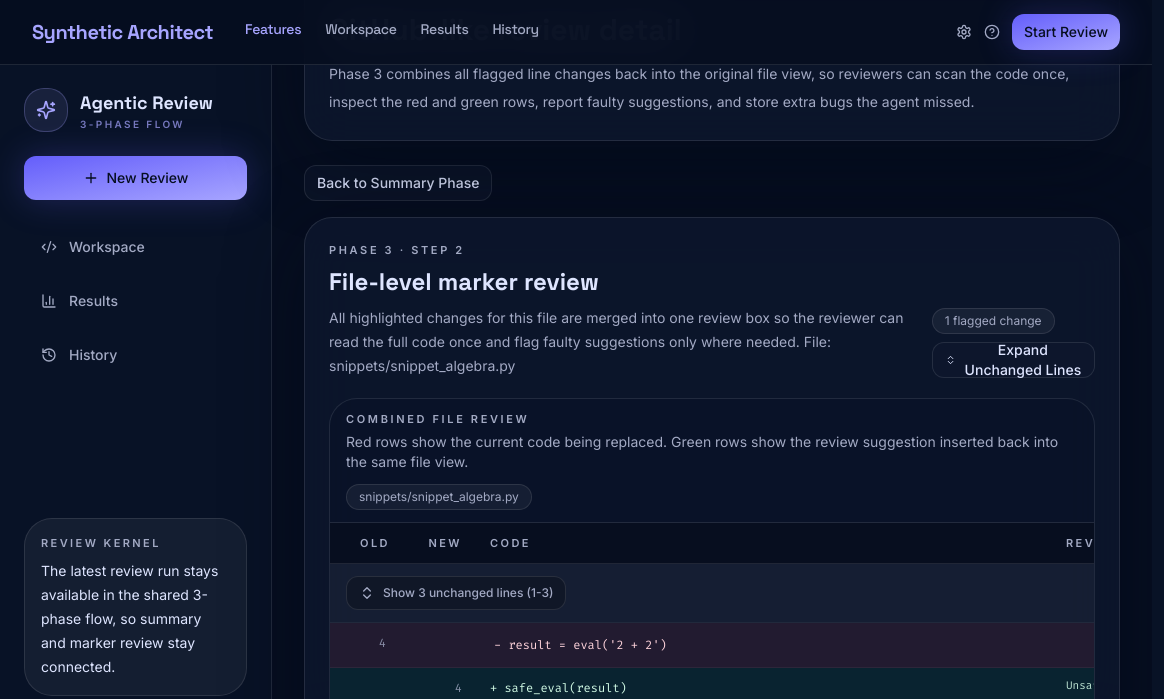
Scenario: ReviewFlowPage › stores extra reviewer-only bugs added in phase 3
(page scrolled)
Click the button "Expand Unchanged Lines" at coordinates (1013, 360), box [932,342,1095,378]
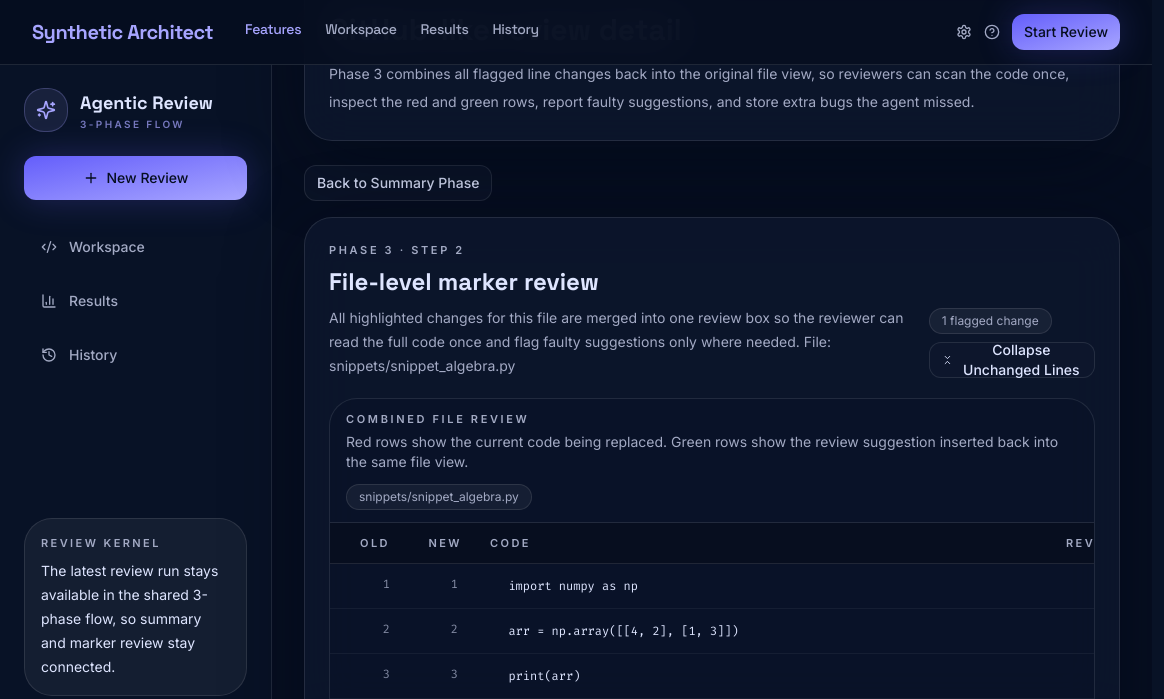
Click the button with aria-label "Anchor phase 3 line 3 from code" at coordinates (544, 676), box [490,662,1034,690]
(page scrolled)
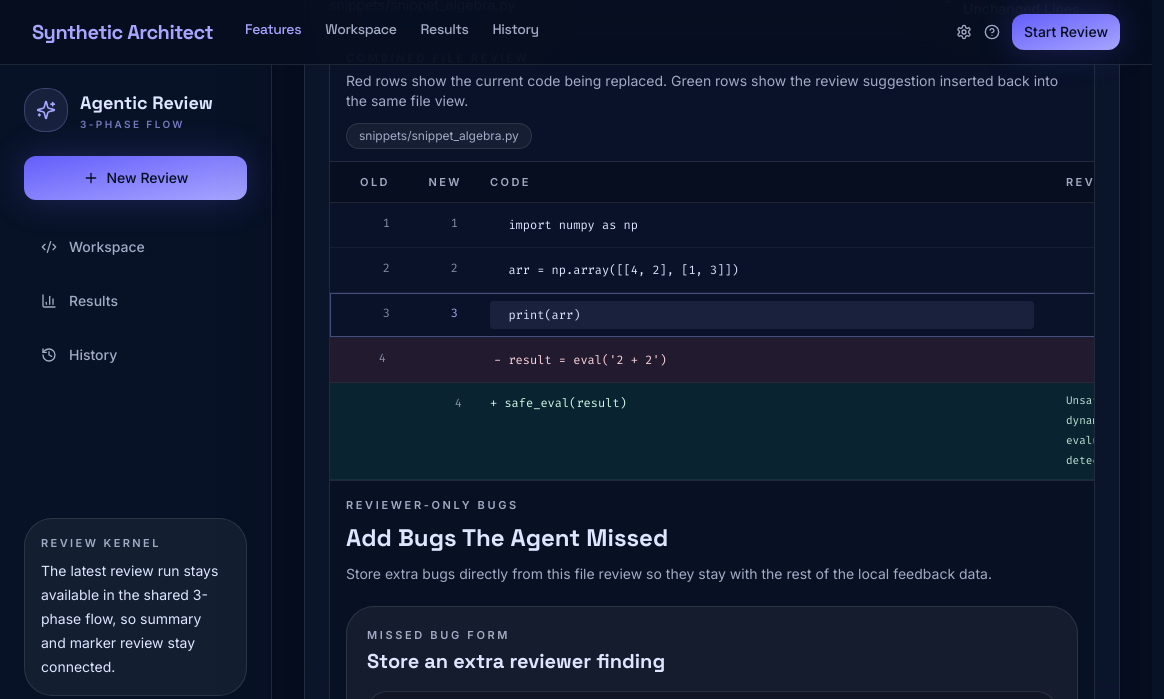
Hover over the button with aria-label "Anchor phase 3 line 4 from code" at coordinates (588, 360), box [490,346,1034,374]
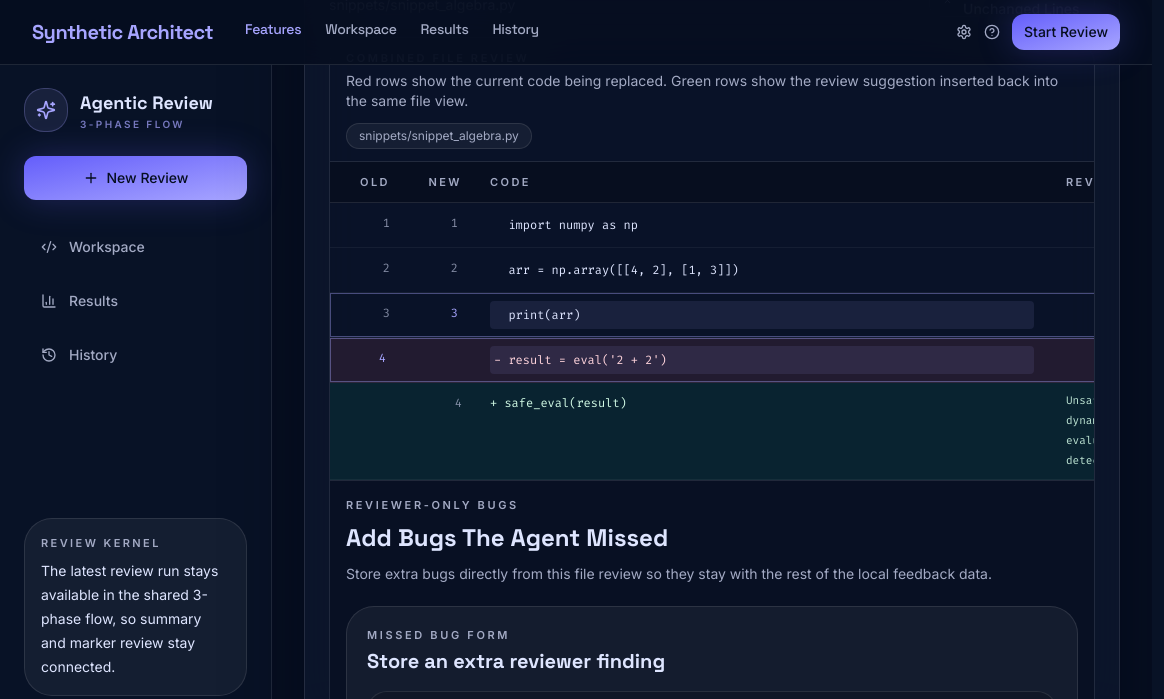
Click the button named "Select phase 3 line 4" at coordinates (382, 358), box [375,346,390,370]
(page scrolled)
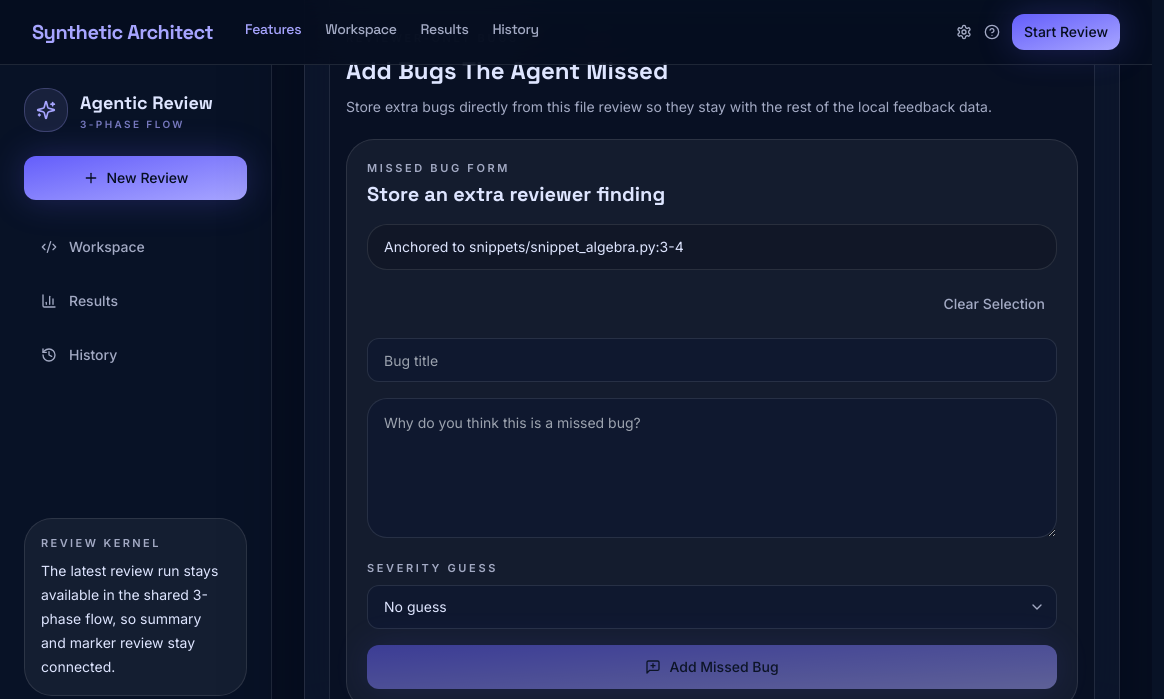
Type "Agent missed input validation risk" into the field with placeholder "Bug title" at coordinates (712, 360), box [367,338,1057,382]
Type "The surrounding branch still accepts unsafe input paths." into the text box with placeholder "Why do you think this is a missed bug?" at coordinates (712, 468), box [367,398,1057,538]
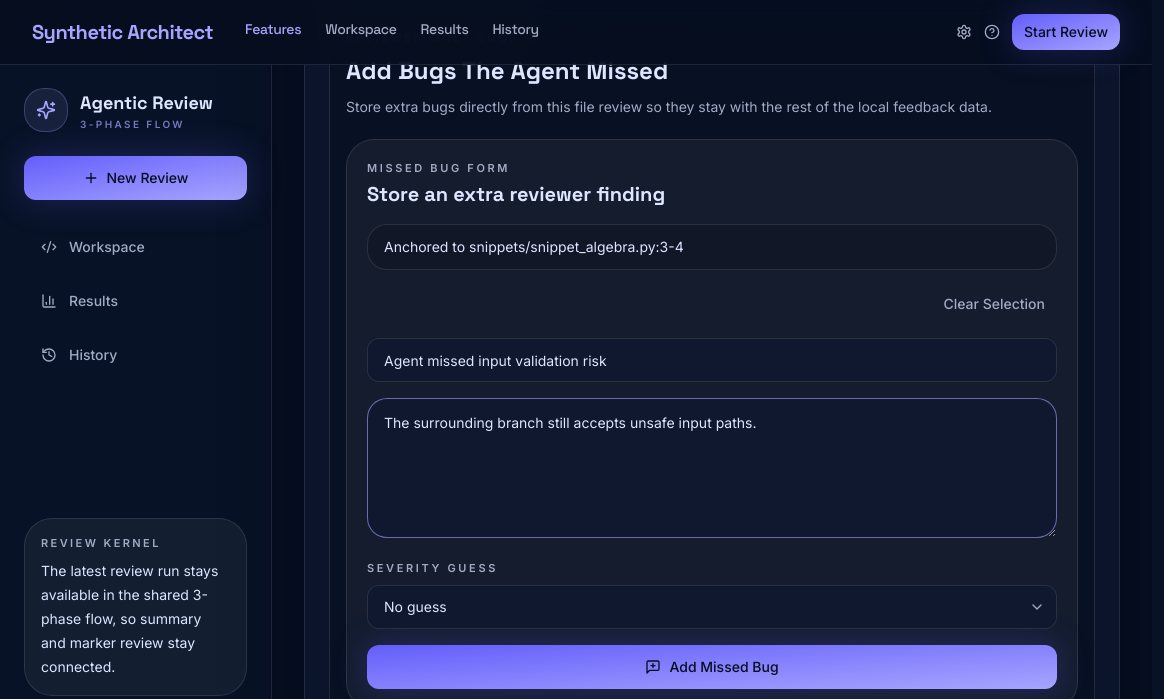
Click the button "Add Missed Bug" at coordinates (712, 666), box [367,644,1057,688]
(page scrolled)
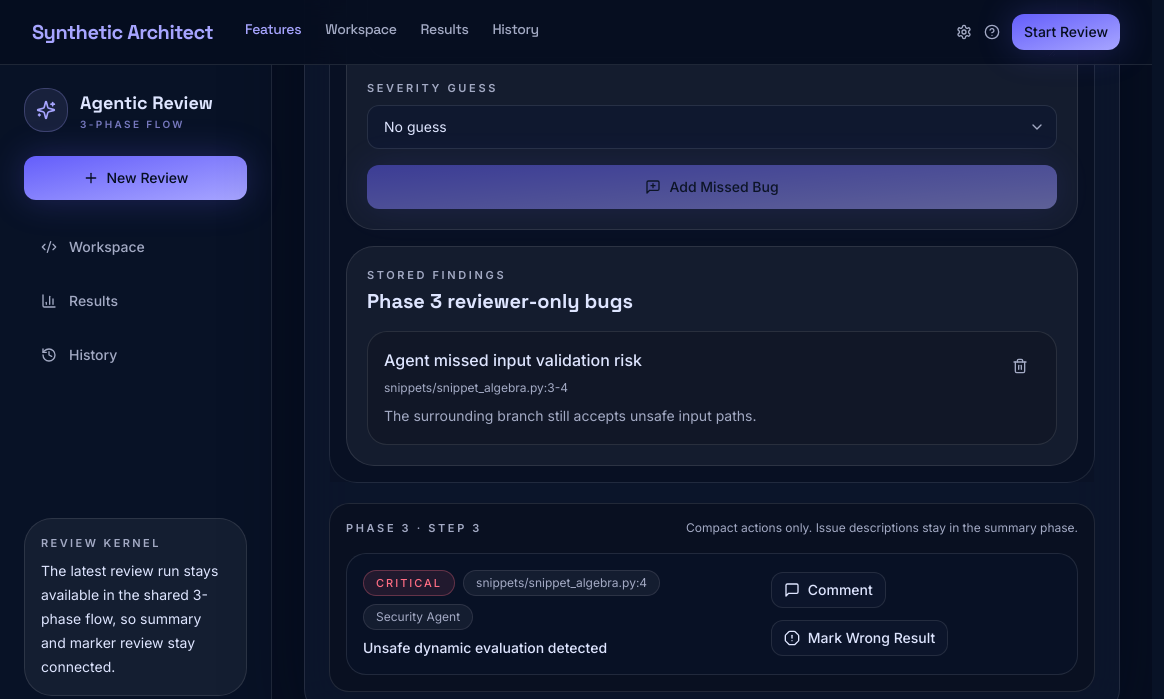
Expected: the text "Agent missed input validation risk" is shown, [384,350,642,370]
